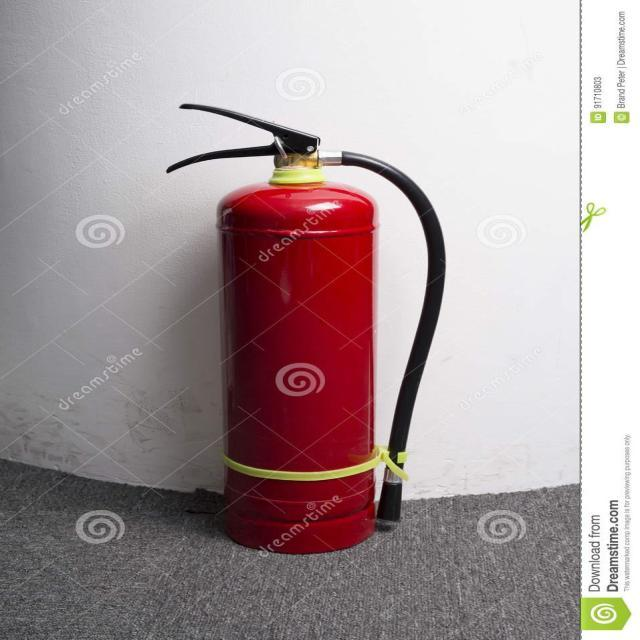fire_extinguisher: (161, 94, 454, 556)
